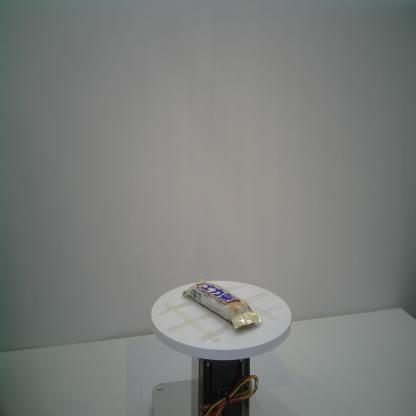Chocolate: (182, 277, 263, 330)
